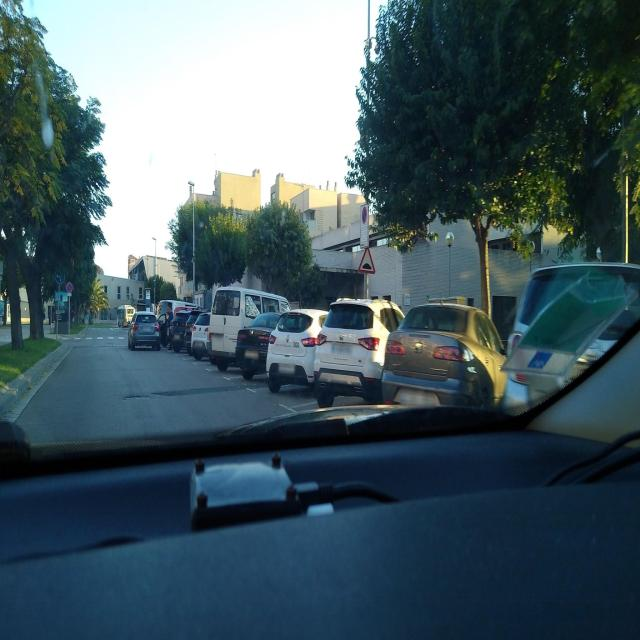forb_stopping: (66, 282, 73, 294)
